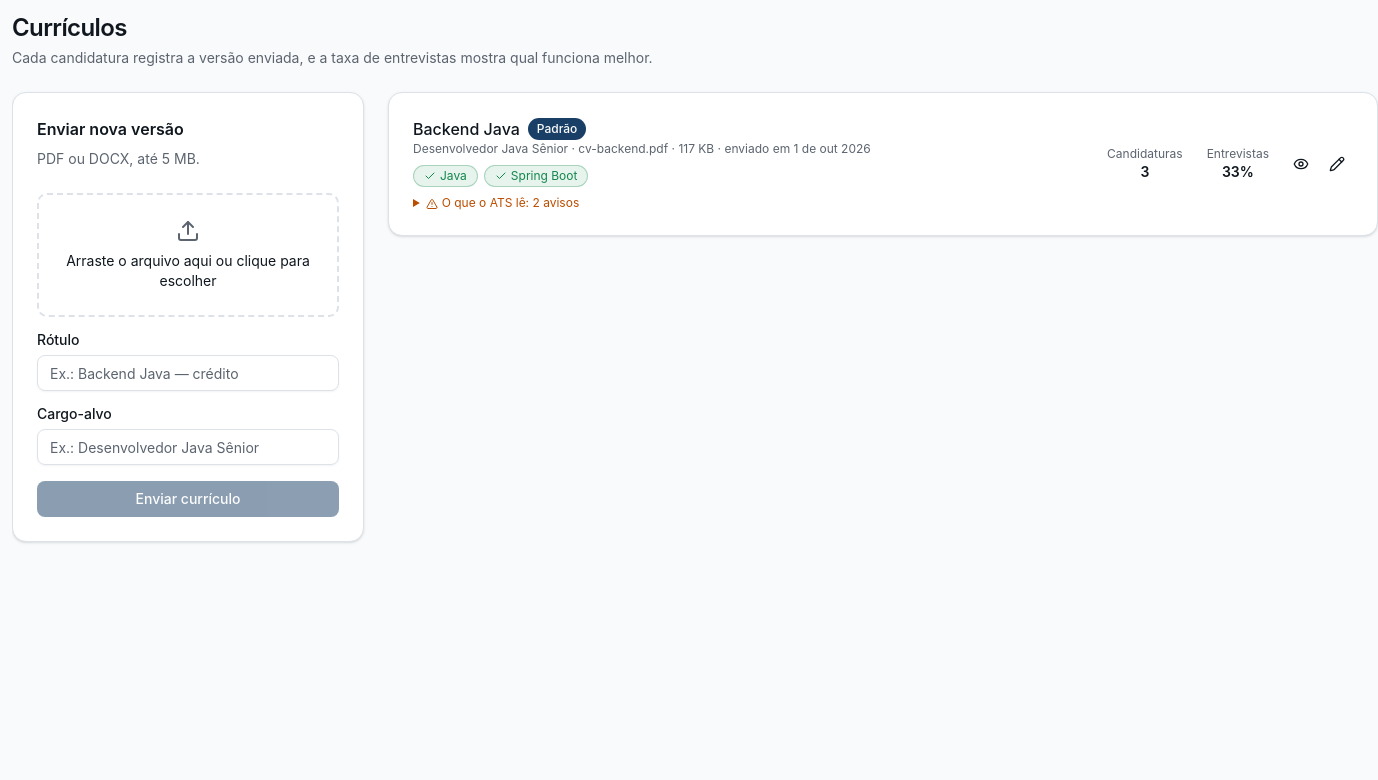
Test: ResumesPage › mostra os avisos do que o ATS lê em cada versão
Click the heading "O que o ATS lê: 2 avisos".
click(502, 202)  # box [426, 195, 579, 210]
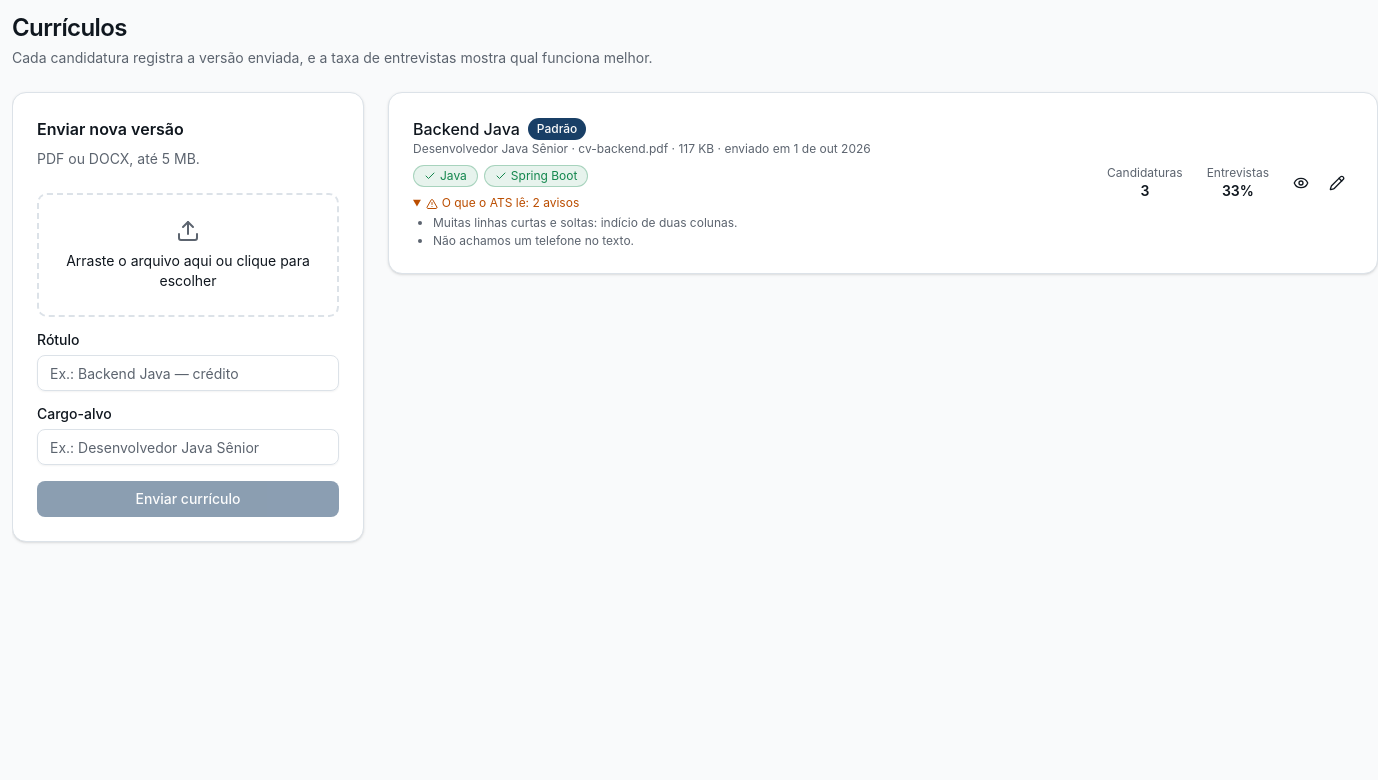
Now the list item "Muitas linhas curtas e soltas: indício de duas colunas." is shown, box [433, 215, 738, 230]
